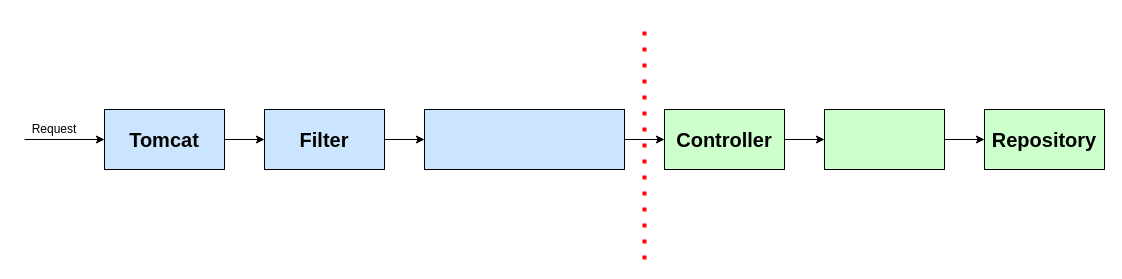
Image size: 1122x279. Some labels were removed from this diagram. The centre of each missing label's shape, as x and y in pixels:
"DispatcherServlet" belongs at (524,139).
"Service" belongs at (884,139).
